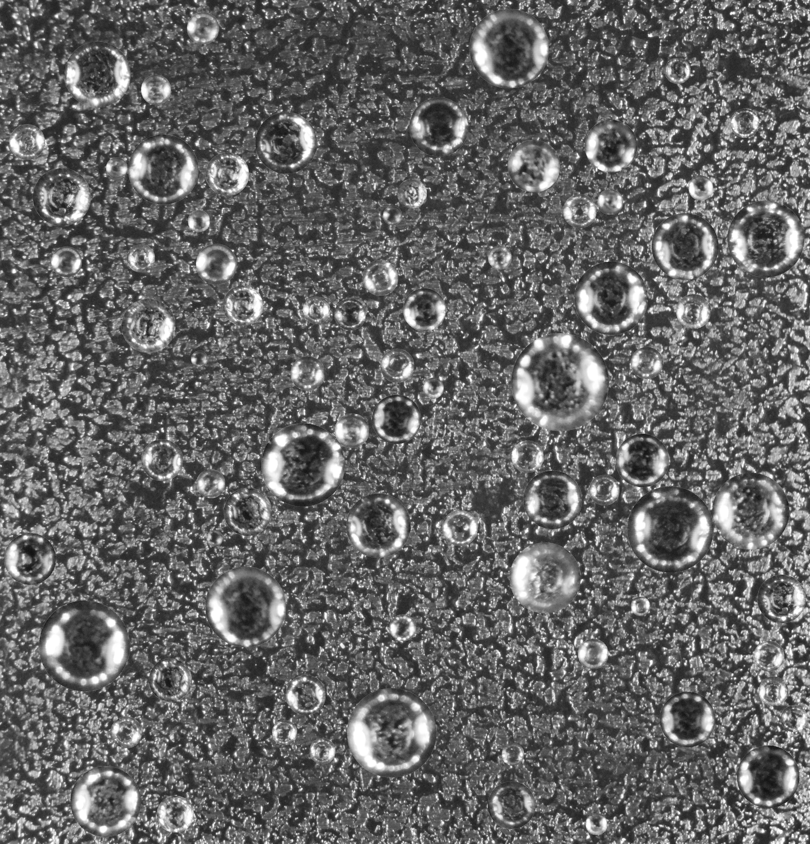Bubble: (511, 333, 608, 430), (38, 600, 129, 691), (347, 688, 436, 777), (627, 486, 713, 572), (261, 423, 344, 506), (205, 566, 285, 647), (469, 8, 548, 88), (727, 200, 804, 277), (712, 472, 789, 549), (574, 261, 647, 334), (509, 542, 580, 613), (70, 766, 140, 836), (128, 134, 198, 204), (651, 213, 718, 279), (64, 41, 130, 107), (346, 493, 410, 557), (737, 745, 799, 808), (255, 112, 316, 173), (409, 97, 468, 156), (523, 470, 581, 529), (32, 168, 90, 225), (659, 691, 715, 747), (121, 298, 175, 352), (615, 433, 669, 487), (507, 139, 560, 192), (585, 119, 637, 172), (4, 533, 55, 584), (372, 394, 421, 443), (757, 574, 805, 623), (487, 781, 535, 829), (223, 487, 271, 535), (148, 658, 191, 701), (205, 152, 248, 195), (403, 288, 445, 331), (141, 439, 182, 480), (196, 243, 236, 284), (222, 285, 262, 325), (285, 675, 325, 715), (156, 795, 193, 832), (362, 260, 398, 295), (442, 510, 477, 545), (9, 124, 44, 159), (334, 413, 369, 447), (676, 294, 710, 328), (290, 356, 324, 390), (380, 348, 414, 382), (563, 194, 596, 227), (631, 346, 663, 378), (187, 12, 219, 44), (110, 716, 142, 748), (511, 440, 543, 472), (334, 298, 365, 330), (753, 641, 784, 671), (51, 246, 81, 277), (578, 638, 608, 669), (589, 475, 619, 505), (397, 178, 426, 208), (141, 74, 170, 104), (758, 676, 788, 705), (196, 469, 225, 498), (730, 108, 759, 137), (126, 244, 154, 272), (302, 296, 330, 323), (389, 614, 416, 641), (780, 705, 807, 732), (664, 57, 690, 83), (309, 738, 335, 764), (597, 189, 623, 214), (272, 720, 297, 745), (688, 175, 713, 200), (488, 245, 511, 269), (501, 743, 524, 765), (187, 210, 209, 232), (585, 813, 607, 835), (106, 157, 127, 178), (423, 377, 443, 398), (631, 596, 650, 616), (383, 206, 402, 225), (191, 350, 207, 367), (206, 530, 222, 546)
